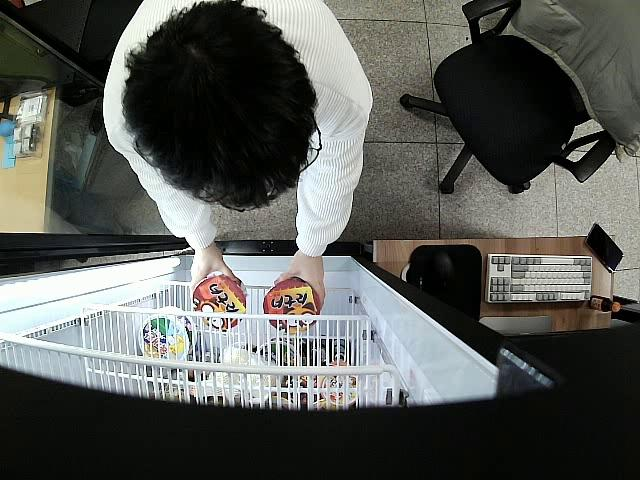00_hand: (276, 263, 324, 308), (189, 256, 241, 291)
05_nuguri_L: (264, 279, 319, 334), (194, 275, 247, 330)
